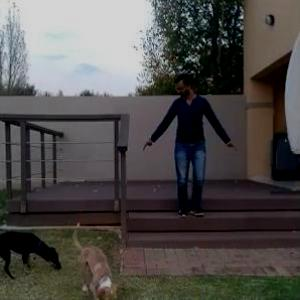land: (149, 73, 232, 226)
